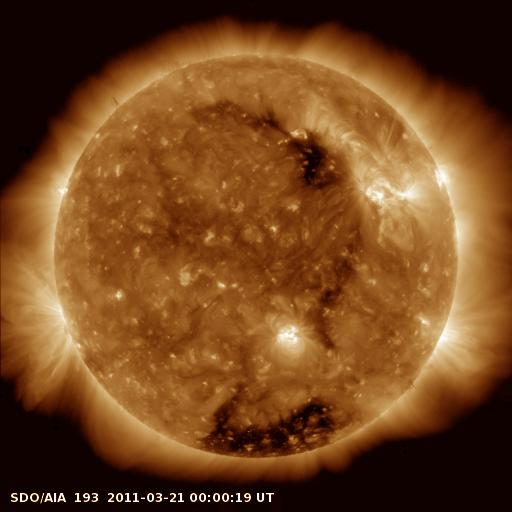coronal_hole: (191, 383, 348, 460), (283, 122, 344, 188)
